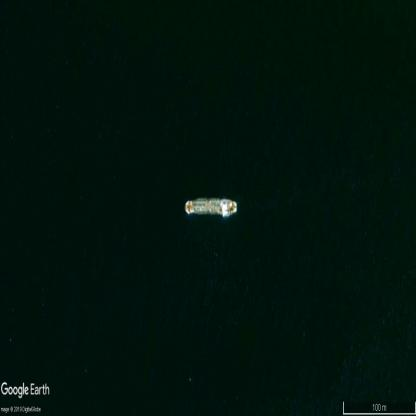ship: (184, 198, 236, 216)
